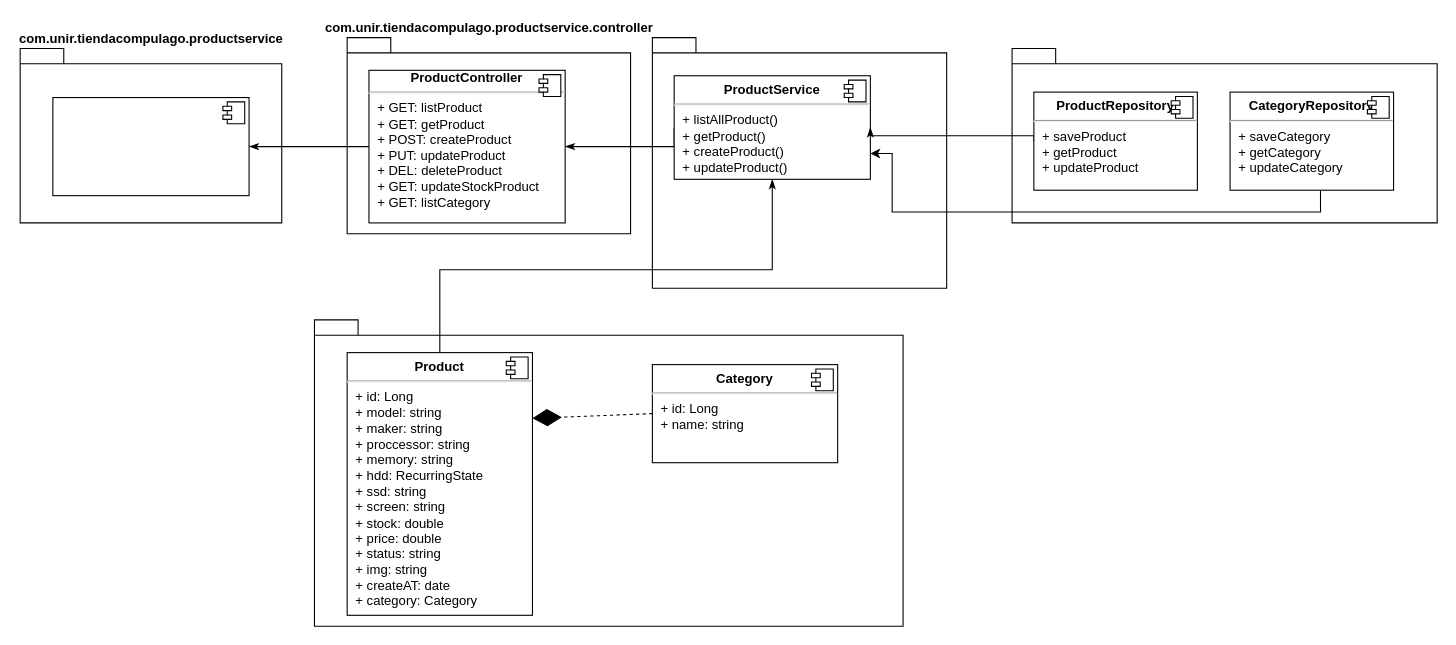
Image size: 1456x645. Some labels were removed from this diagram. Each missing label, with the box of its shape:
com.unir.tiendacompulago.productservice.entity: (313, 319, 903, 626)
com.unir.tiendacompulago.productservice.repository: (1011, 47, 1437, 223)
com.unir.tiendacompulago.productservice.service: (651, 37, 947, 288)
ProductServiceApplication + main: (52, 96, 249, 196)
